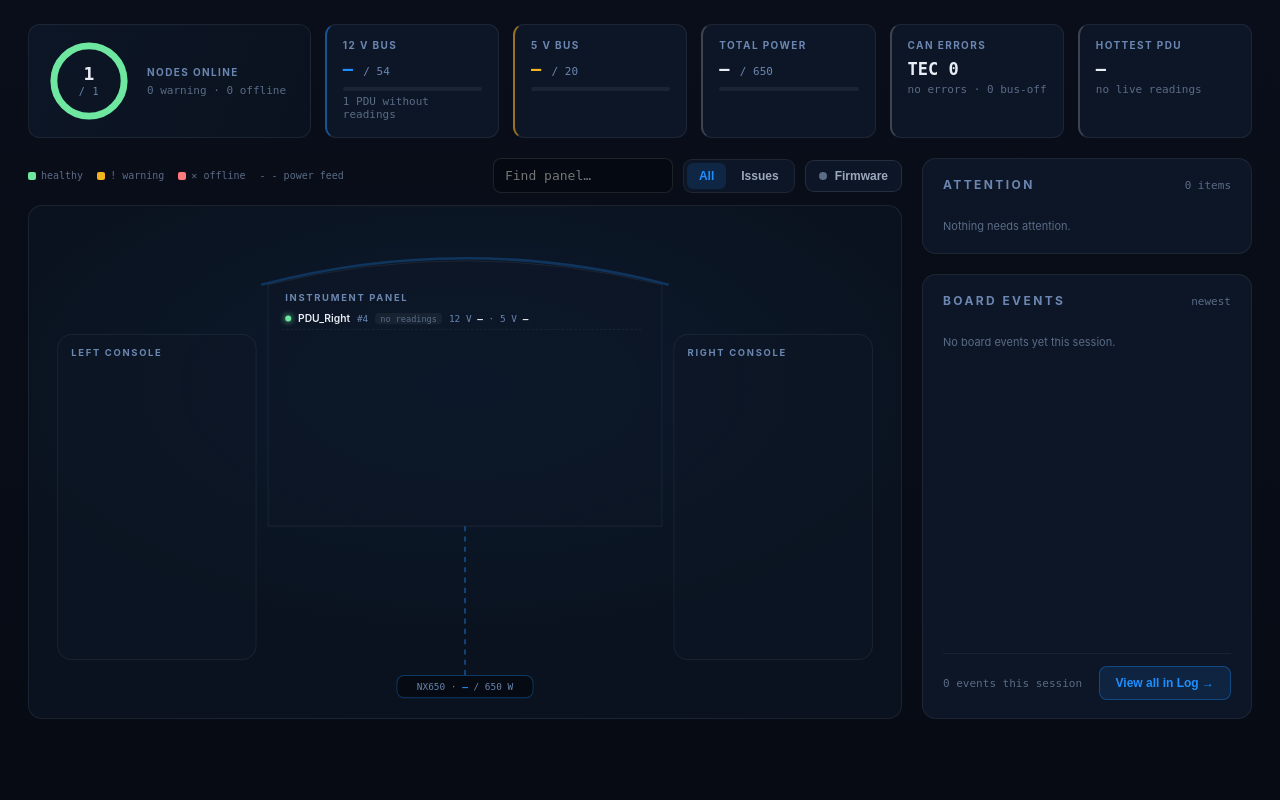
Test case: T8 Board panel footer: PDU (B73, B9, B10, X8) › online: Forget and Hide are greyed out, with the reason
What coordinates should you click on to do the following:
click the button titled "PDU_Right — power zone details"
I would click on:
 (462, 320)
Its box is [282,310,641,330].
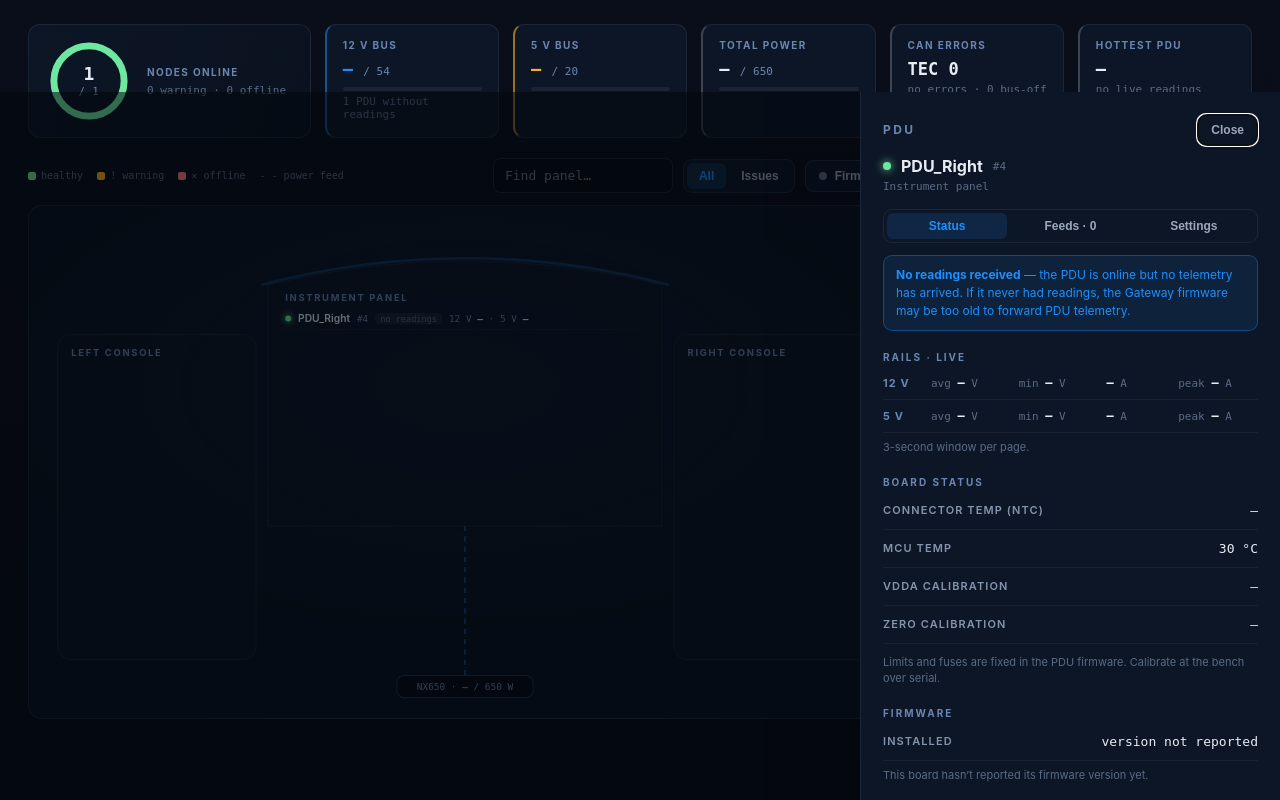
What coordinates should you click on to do the following:
click the tab "Settings"
I would click on:
 (1194, 226)
Its box is [1134,213,1254,239].
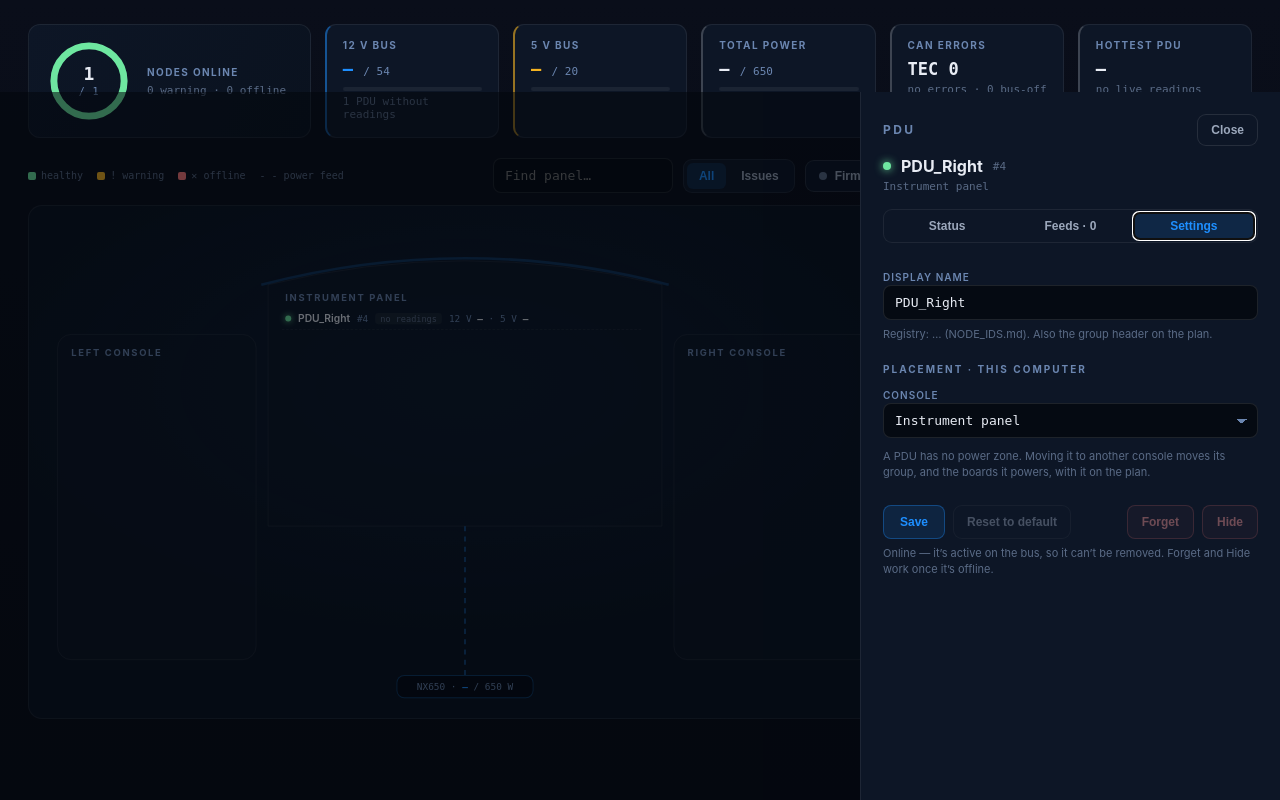
Expected: the button "Forget" is disabled, [1127,504,1194,538]
Expected: the button "Hide" is disabled, [1202,504,1258,538]
Expected: the text "Online — it’s active on the bus, so it can’t be removed. Forget and Hide work once it’s offline." is shown, [883,546,1250,576]
